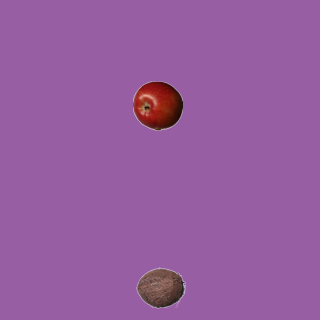Apple Braeburn: (132, 80, 182, 130)
Cocos: (135, 262, 185, 312)
